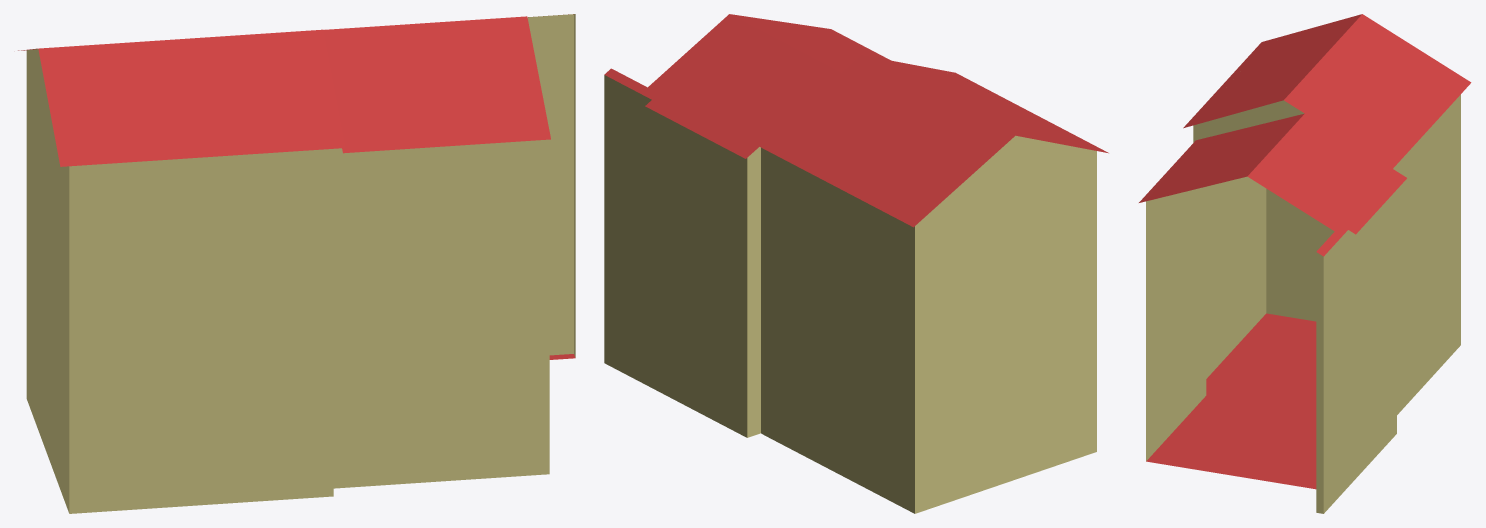
3 renders of one model, left to right at view 1: azimuth 30°, elevation 25°; view 2: azimuth 150°, elevation 25°; view 3: azimuth 270°, elevation 25°, orthographic. The views are drawn at different scales.
Bounding box in the file's own units: 14.85 × 10.2 × 10.52.
